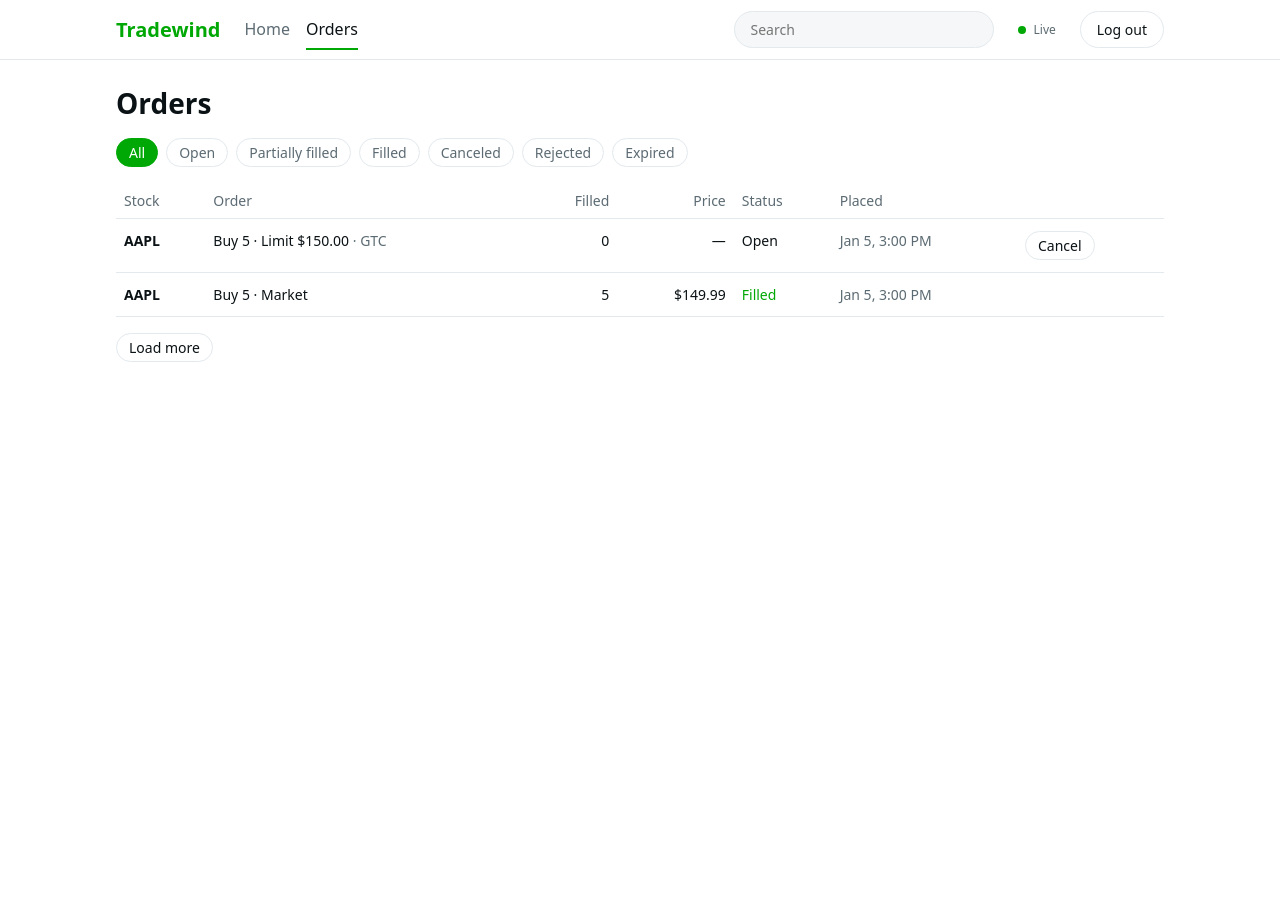
Test: Orders › lists orders page by page, cancels an open one, and follows pushed status changes
The image size is (1280, 900).
Expected: the text "Open" is shown, x1=742 y1=231 x2=778 y2=250
Expected: the text "$149.99" is shown, x1=617 y1=272 x2=734 y2=316
Click the button "Cancel".
click(1060, 246)  # box x1=1025 y1=231 x2=1095 y2=260
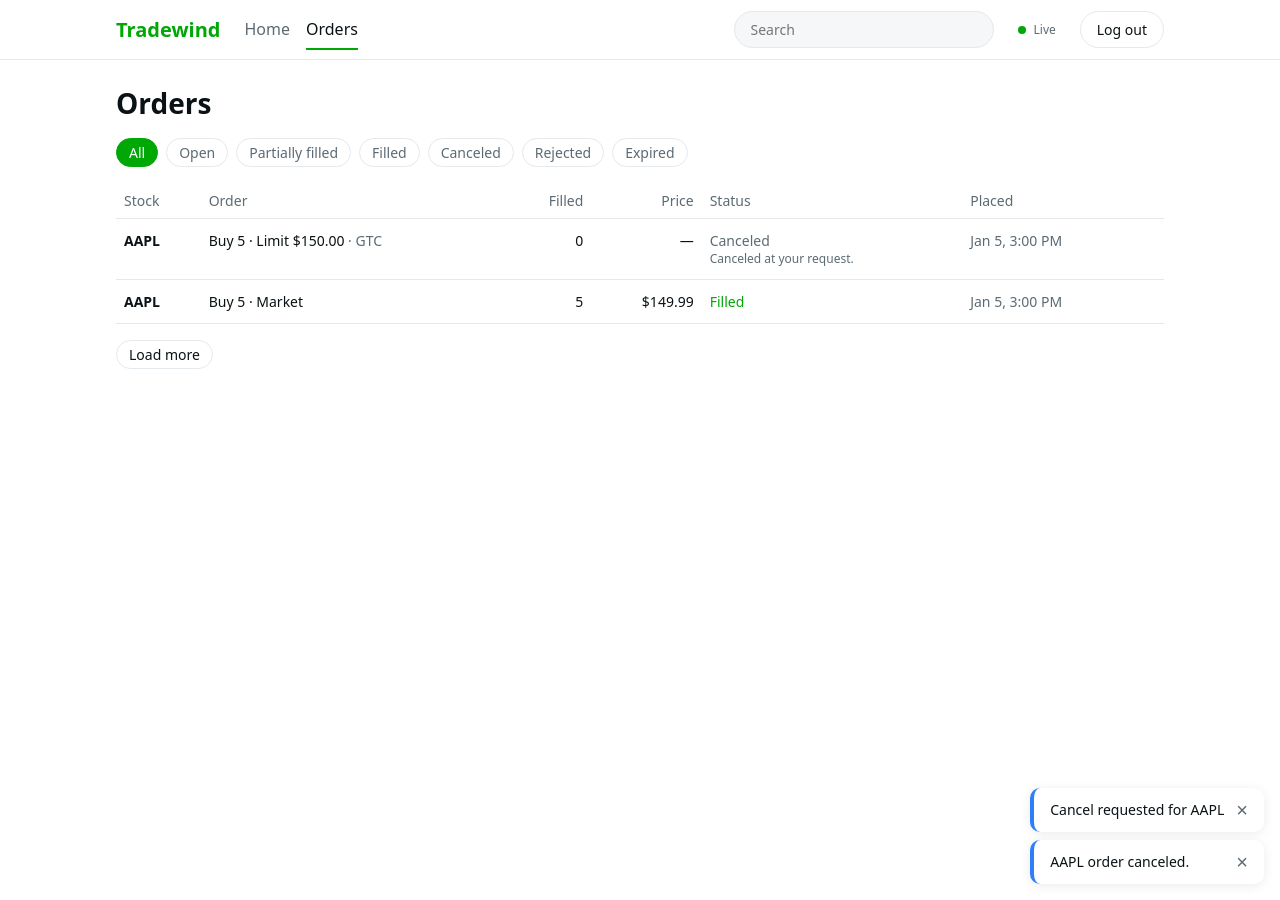
Expected: the text "Cancel requested for AAPL" is shown, x1=1050 y1=800 x2=1224 y2=819
Expected: the text "Canceled" is shown, x1=710 y1=231 x2=770 y2=250
Expected: the text "AAPL order canceled." is shown, x1=1050 y1=852 x2=1189 y2=871
